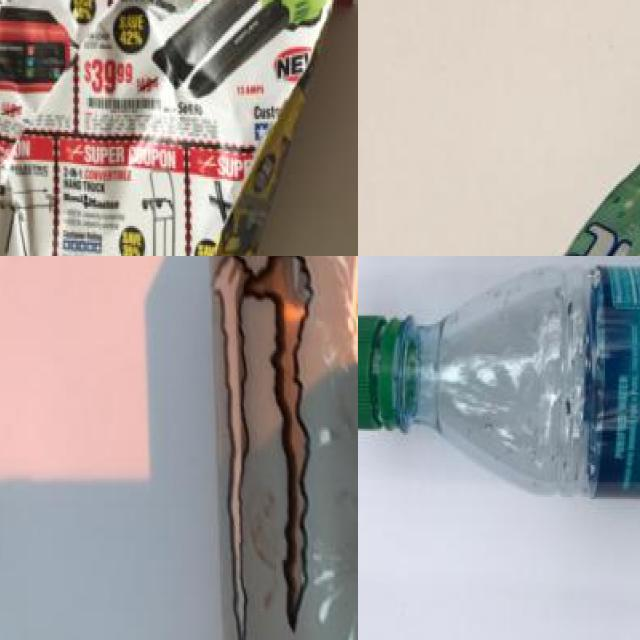paper: (0, 0, 358, 256)
plastic: (358, 264, 640, 507), (207, 256, 358, 640)
trash: (437, 57, 640, 256)
